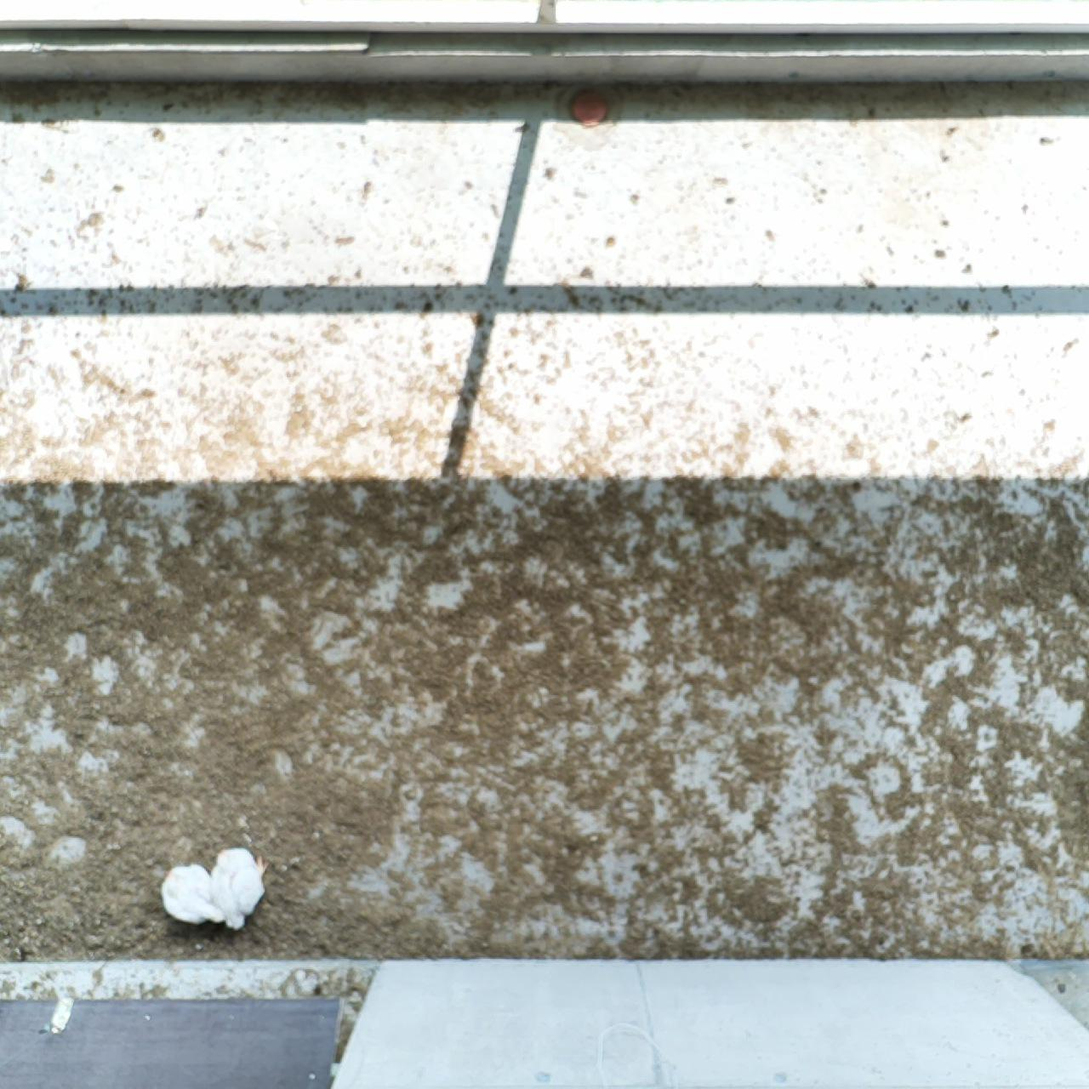chicken: (208, 843, 270, 932), (156, 860, 228, 932)
